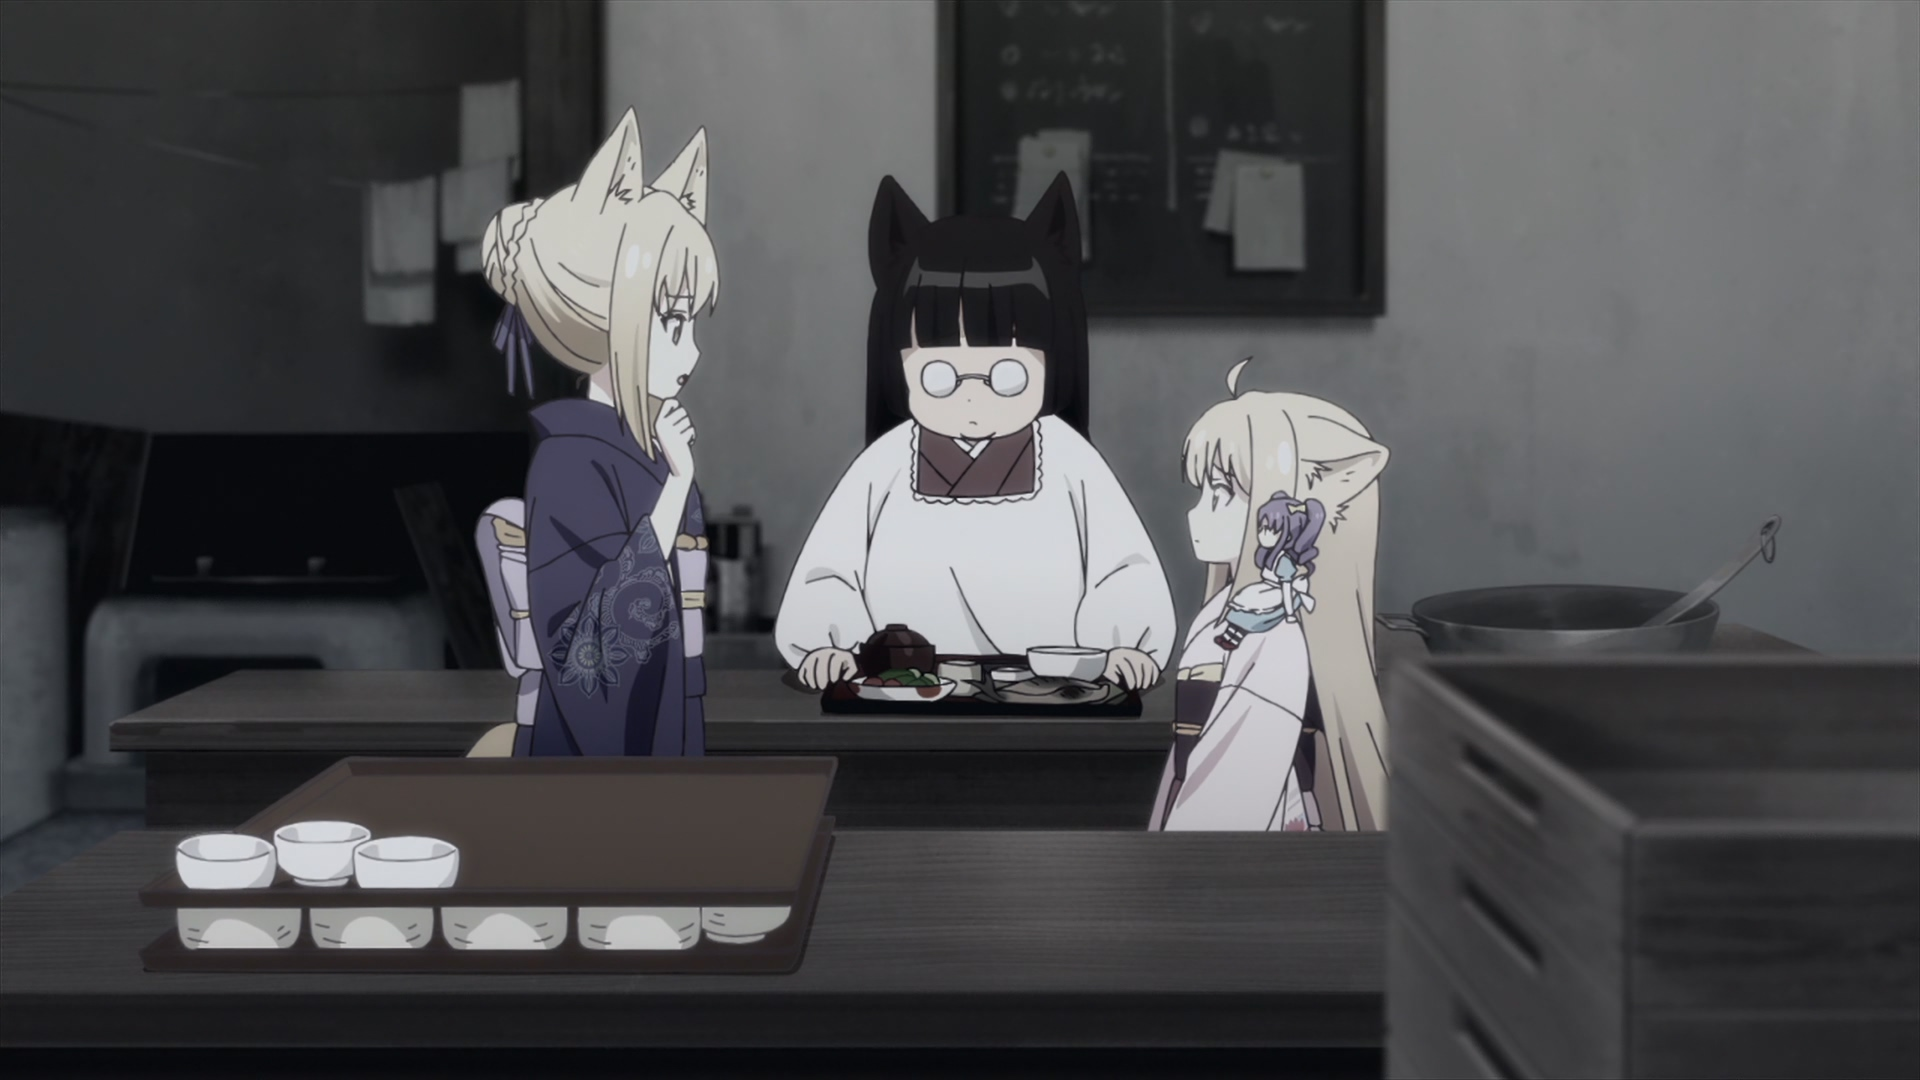其他: (775, 167, 1176, 695)
柚: (1149, 357, 1389, 831)
桐: (465, 105, 720, 756)
阿菊: (1212, 489, 1328, 651)
